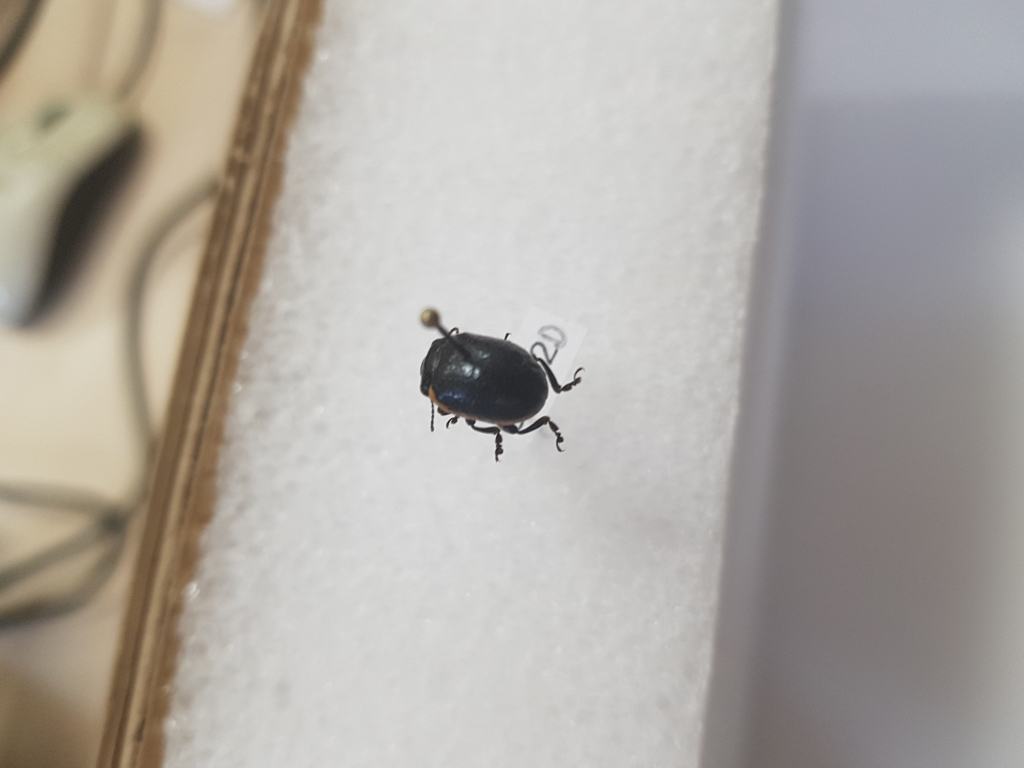Chrysolina_gypsophila: (413, 329, 587, 465)
